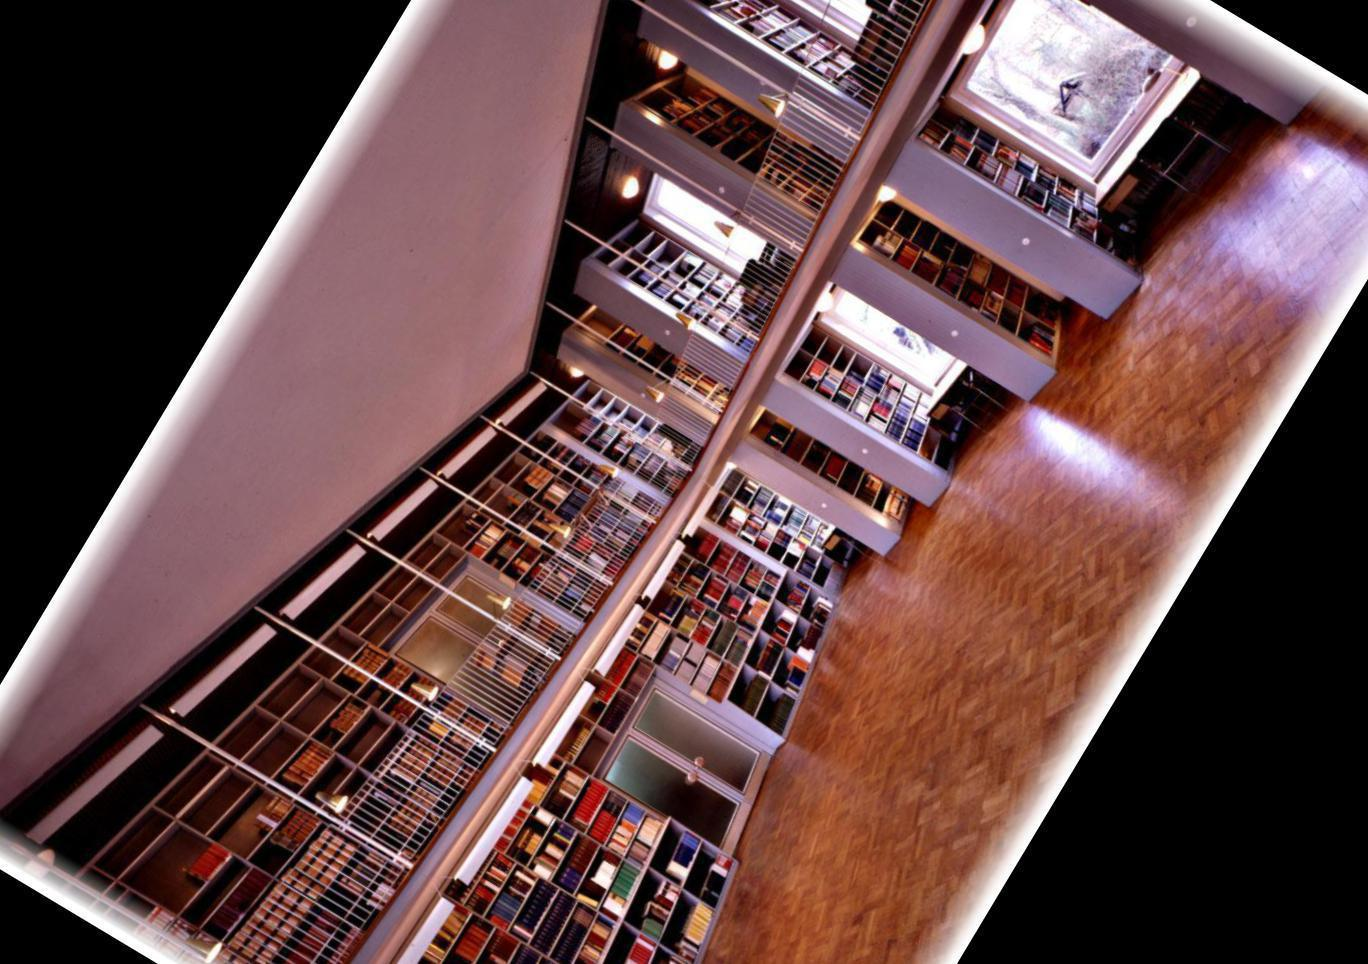Puerta: (602, 678, 788, 850)
